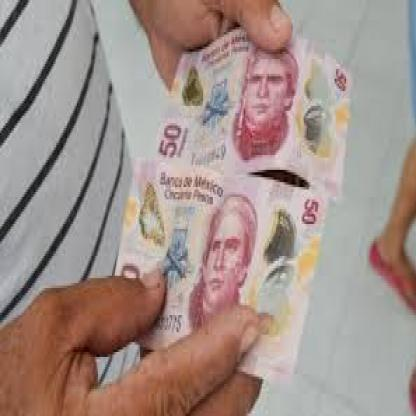billete: (112, 158, 325, 384), (154, 25, 352, 197)
